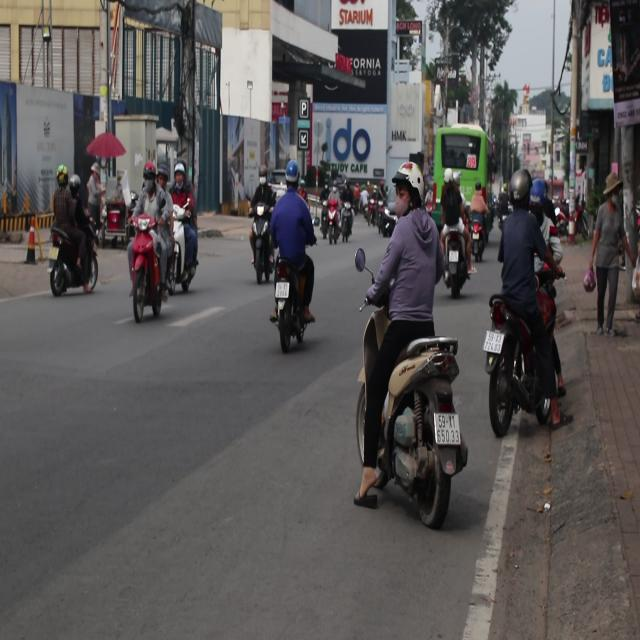car: (268, 170, 290, 197)
motorbike: (349, 297, 461, 532), (472, 289, 556, 458), (276, 251, 320, 375), (40, 224, 103, 295), (134, 210, 165, 334), (170, 203, 198, 300), (249, 199, 276, 285), (441, 223, 465, 310), (325, 200, 339, 260), (376, 206, 396, 240), (336, 197, 348, 245), (319, 192, 331, 236)
